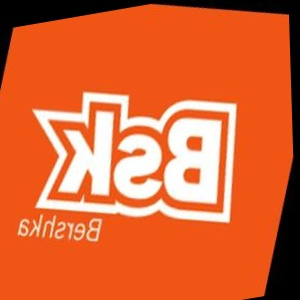bershka: (241, 15, 264, 78)
